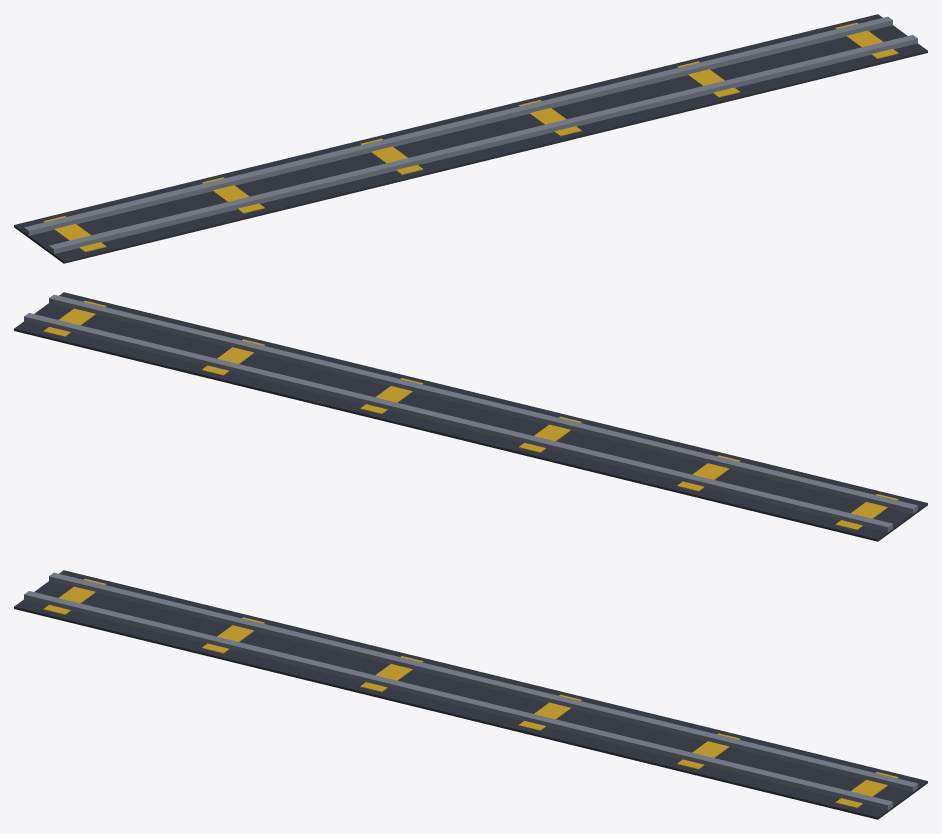
File: crane_rail.glb
The picture shows the model from 3 angles, top to bottom: view 1: azimuth 30°, elevation 25°; view 2: azimuth 150°, elevation 25°; view 3: azimuth 330°, elevation 25°; orthographic projection.
Visible parts, largest first — view 1: crane_rail; view 2: crane_rail; view 3: crane_rail.
Part boxes in pixels (left/top/right/bottom): crane_rail: left=14, top=14, right=927, bottom=263; crane_rail: left=14, top=292, right=927, bottom=541; crane_rail: left=14, top=570, right=927, bottom=819.
Bounding box in the file's own units: 12 × 0.095 × 1.2.
